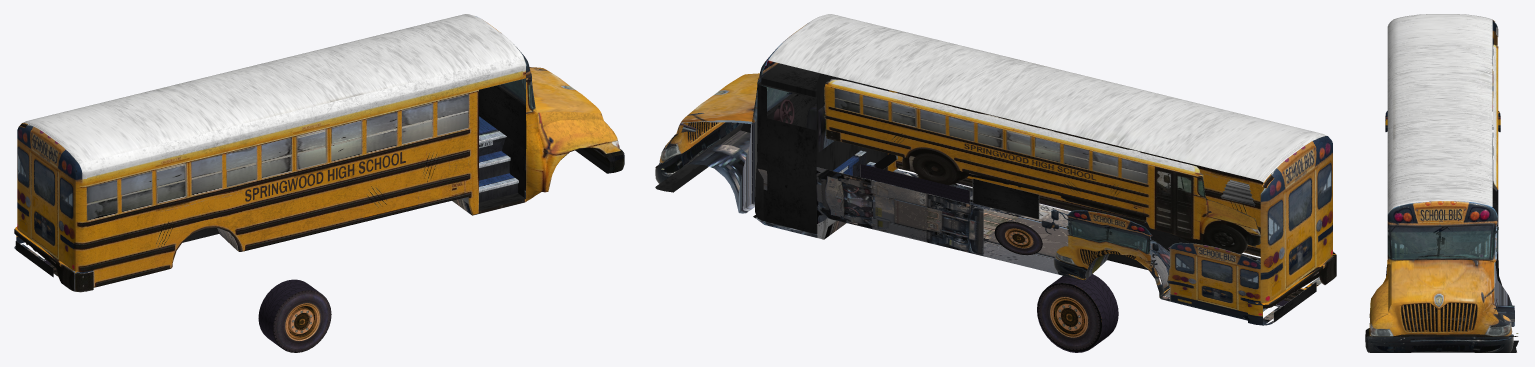
File: bus.fbx
The picture shows the model from 3 angles, left to right: view 1: azimuth 30°, elevation 25°; view 2: azimuth 150°, elevation 25°; view 3: azimuth 270°, elevation 25°; orthographic projection. The views are drawn at different scales.
Parts seen in each view (by area): view 1: Bus, Tire, Stairs; view 2: Bus, Tire, Seat, Stairs; view 3: Bus.
Part boxes in pixels (box(x1,y1,x2,y2)): Bus: box(14, 14, 624, 292); Tire: box(258, 279, 331, 352); Stairs: box(479, 116, 518, 202); Bus: box(655, 14, 1336, 325); Tire: box(1037, 274, 1118, 352); Seat: box(806, 104, 834, 151); Stairs: box(757, 150, 878, 181); Bus: box(1365, 14, 1518, 352).
Bounding box in the file's own units: 486 × 212 × 139.
Materials: 7 (6 with a texture image).
